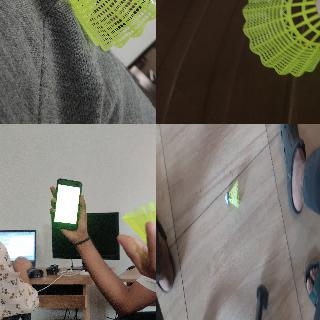shuttlecock: (6, 0, 155, 52), (242, 0, 319, 77), (123, 198, 155, 257), (226, 181, 239, 208)
